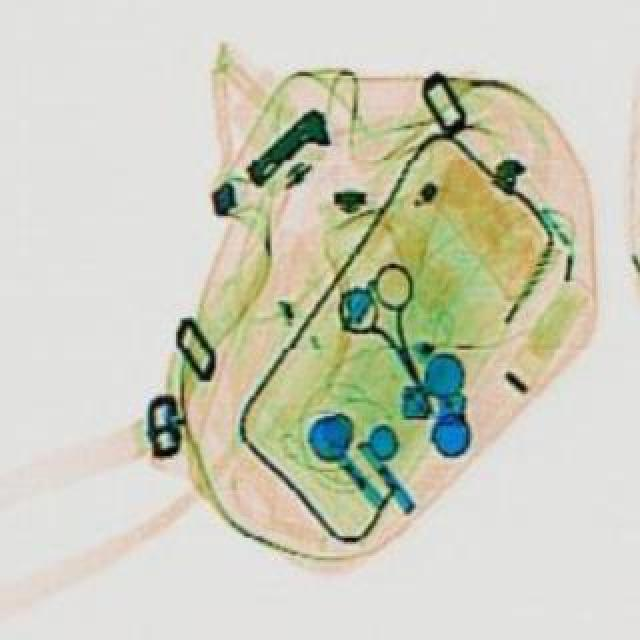pliers: (322, 254, 462, 404)
